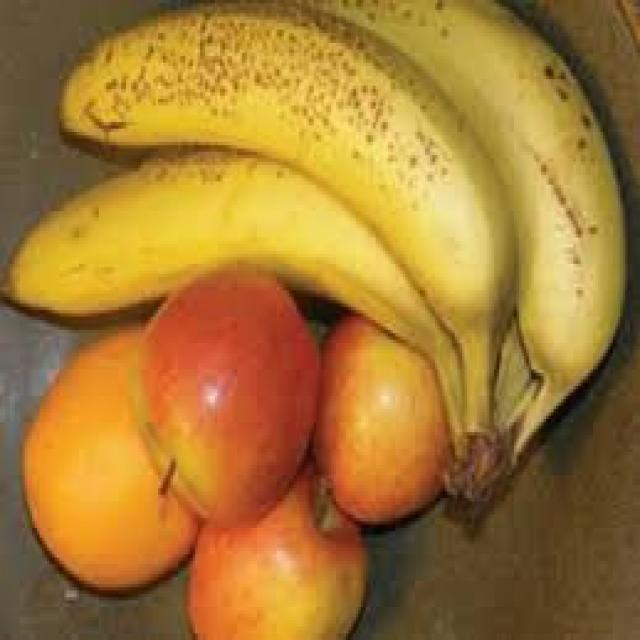organic waste: (54, 0, 514, 485), (190, 0, 625, 475), (0, 145, 467, 498), (133, 260, 319, 524), (22, 320, 195, 587), (185, 445, 364, 637), (311, 307, 450, 521)
